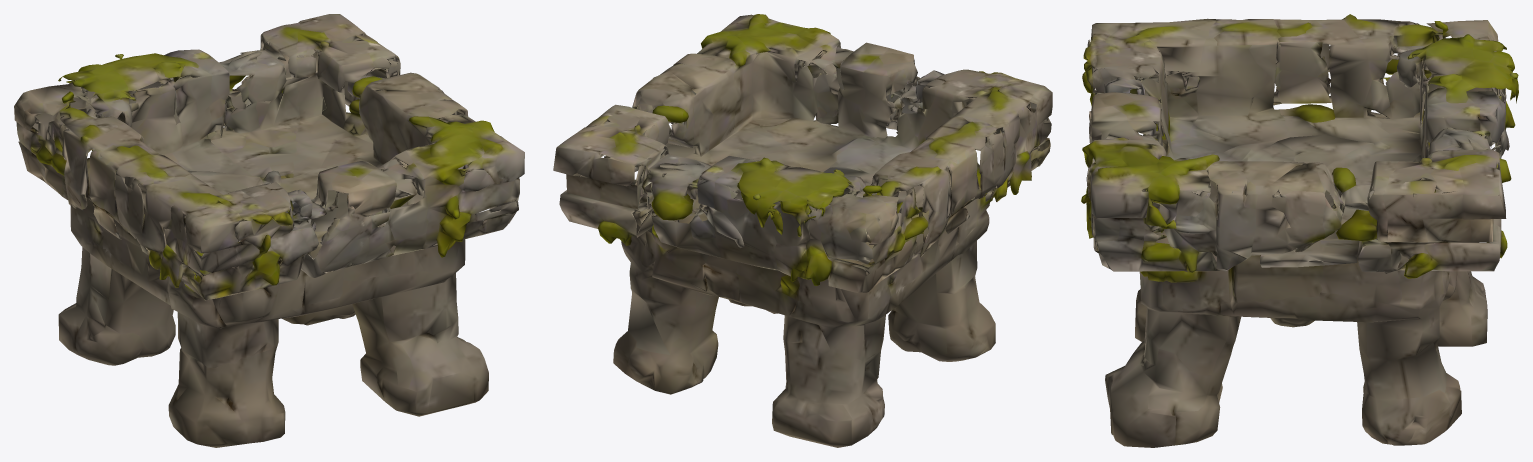
The model's file is ruin_brazier.glb.
3 views of the same model, side by side, from view 1: azimuth 30°, elevation 25°; view 2: azimuth 150°, elevation 25°; view 3: azimuth 270°, elevation 25° (orthographic). The views are drawn at different scales.
Visible parts, largest first — view 1: tripo_node_2316d8df-15b8-4132-9399-c798292931ce; view 2: tripo_node_2316d8df-15b8-4132-9399-c798292931ce; view 3: tripo_node_2316d8df-15b8-4132-9399-c798292931ce.
Part boxes in pixels (x1,y1,x2,y2): tripo_node_2316d8df-15b8-4132-9399-c798292931ce: [14, 14, 524, 447]; tripo_node_2316d8df-15b8-4132-9399-c798292931ce: [553, 14, 1052, 447]; tripo_node_2316d8df-15b8-4132-9399-c798292931ce: [1081, 14, 1518, 447].
Bounding box in the file's own units: 0.9578 × 0.7286 × 0.9995.
1 material, 1 textured.
